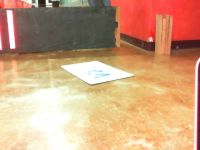switch: (6, 10, 16, 49), (1, 10, 3, 50)
